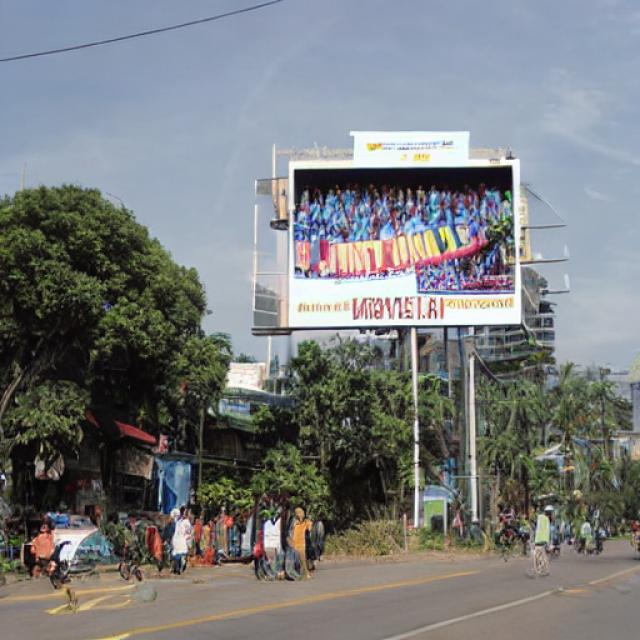Billboard: (278, 158, 522, 336)
